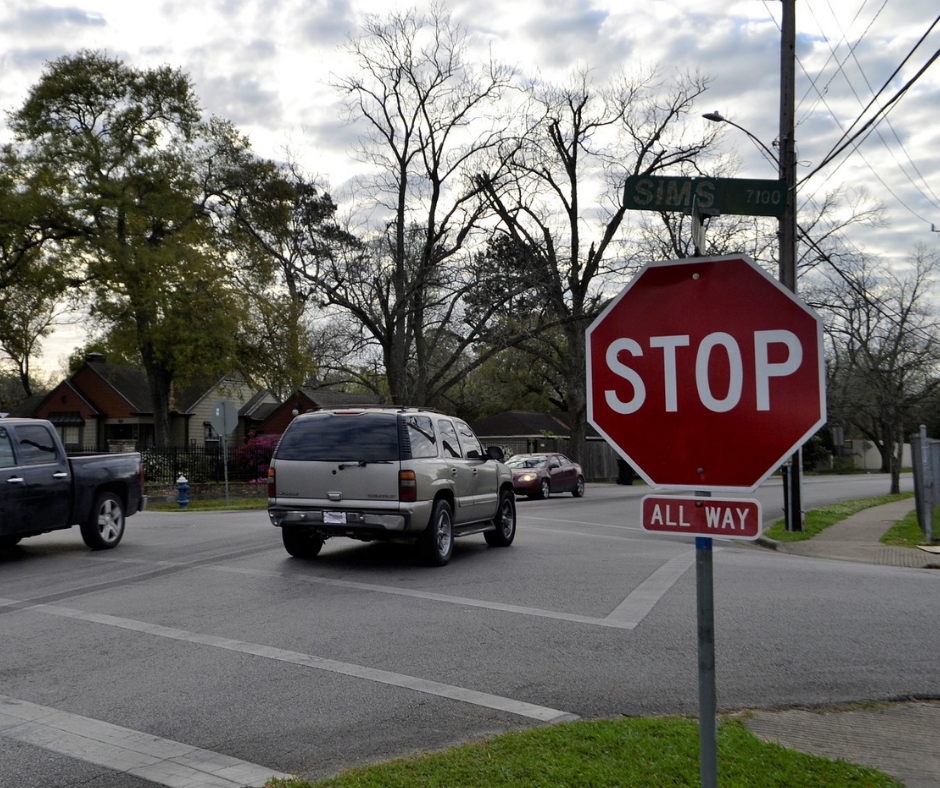stop: (572, 248, 841, 498)
